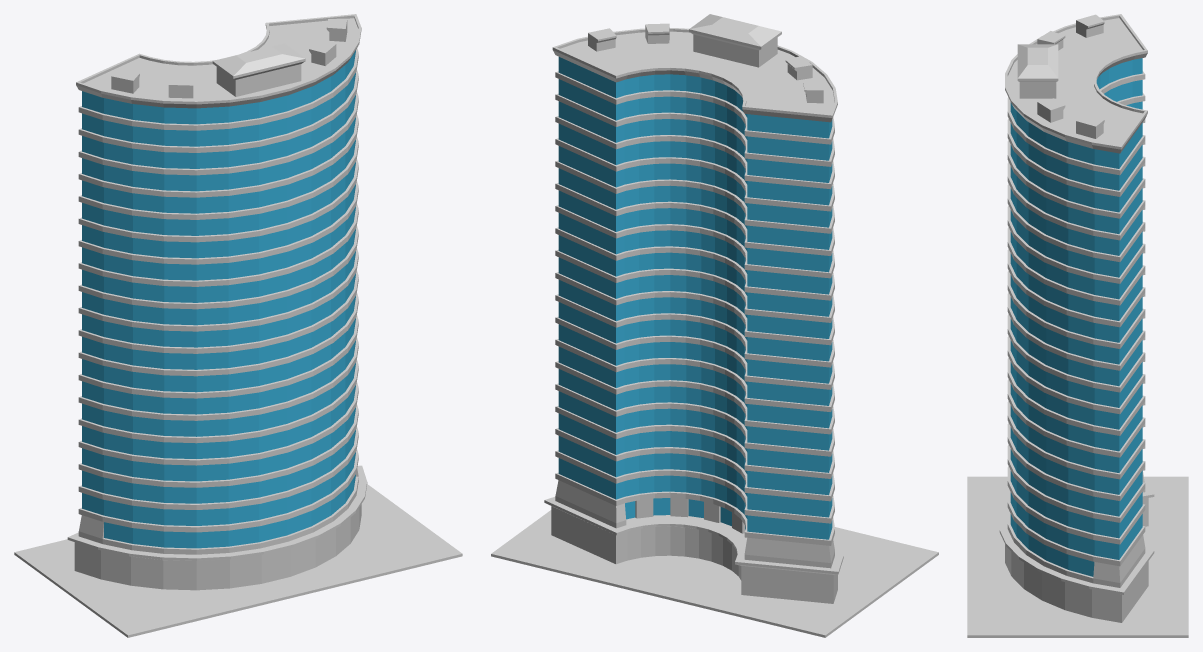
The model's file is Chroma Skyscraper L.fbx.
3 views of the same model, side by side, from view 1: azimuth 30°, elevation 25°; view 2: azimuth 150°, elevation 25°; view 3: azimuth 270°, elevation 25° (orthographic). The views are drawn at different scales.
Parts seen in each view (by area): view 1: Cylinder, Ground; view 2: Cylinder, Ground; view 3: Cylinder, Ground.
Part boxes in pixels (x1,y1,x2,y2): Cylinder: (67, 14, 367, 590); Ground: (14, 484, 462, 637); Cylinder: (544, 14, 843, 603); Ground: (491, 510, 938, 637); Cylinder: (999, 14, 1154, 622); Ground: (967, 476, 1188, 637).
Bounding box in the file's own units: 2040 × 3005 × 1200.
